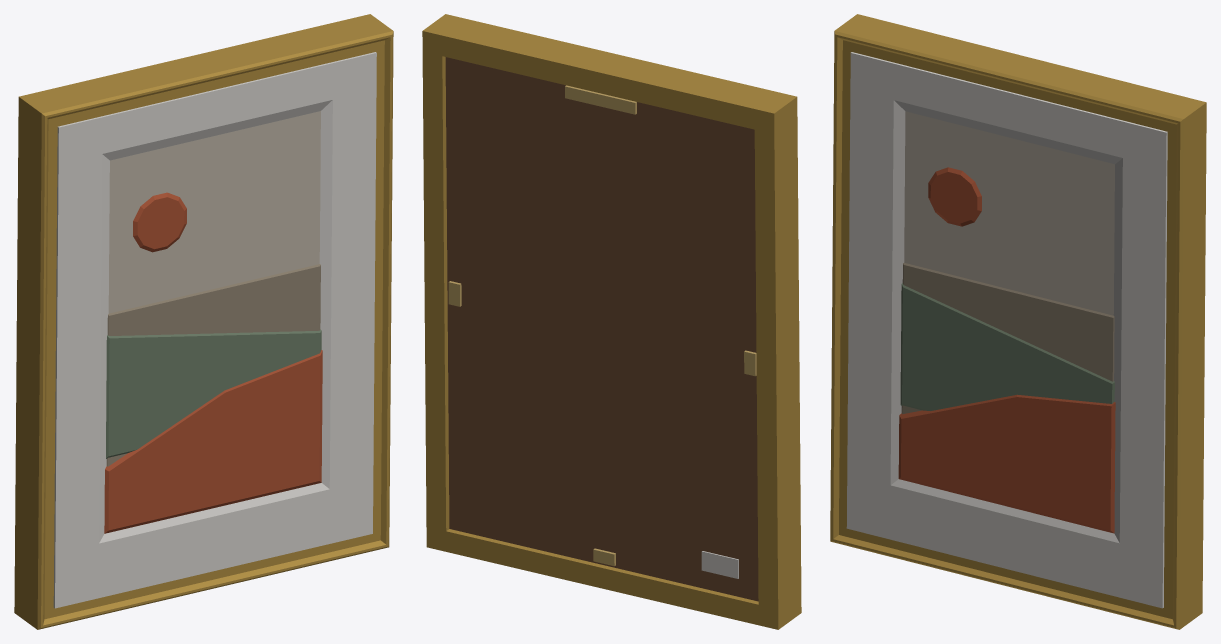
Rendered from framed-wall-art-d2c8a2.glb.
3 renders of one model, left to right at view 1: azimuth 30°, elevation 25°; view 2: azimuth 150°, elevation 25°; view 3: azimuth 330°, elevation 25°, orthographic.
Visible parts, largest first — view 1: framed-wall-art; view 2: framed-wall-art; view 3: framed-wall-art.
Boxes of the visible parts, bbox=[...] form: framed-wall-art: bbox=[14, 14, 393, 629]; framed-wall-art: bbox=[422, 14, 801, 629]; framed-wall-art: bbox=[830, 14, 1206, 629].
Size of the model in its own units: 0.506 by 0.7043 by 0.06.
